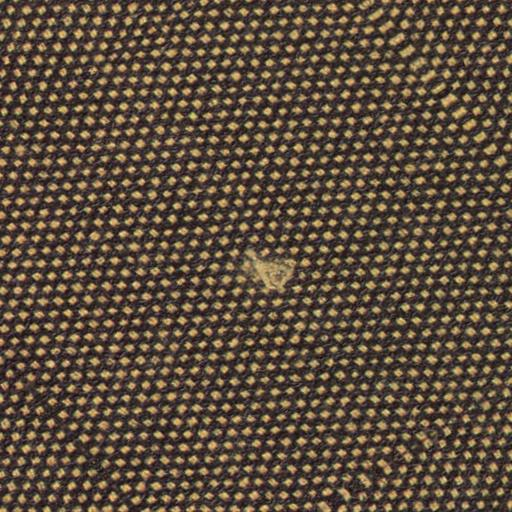knot: (245, 249, 314, 308)
